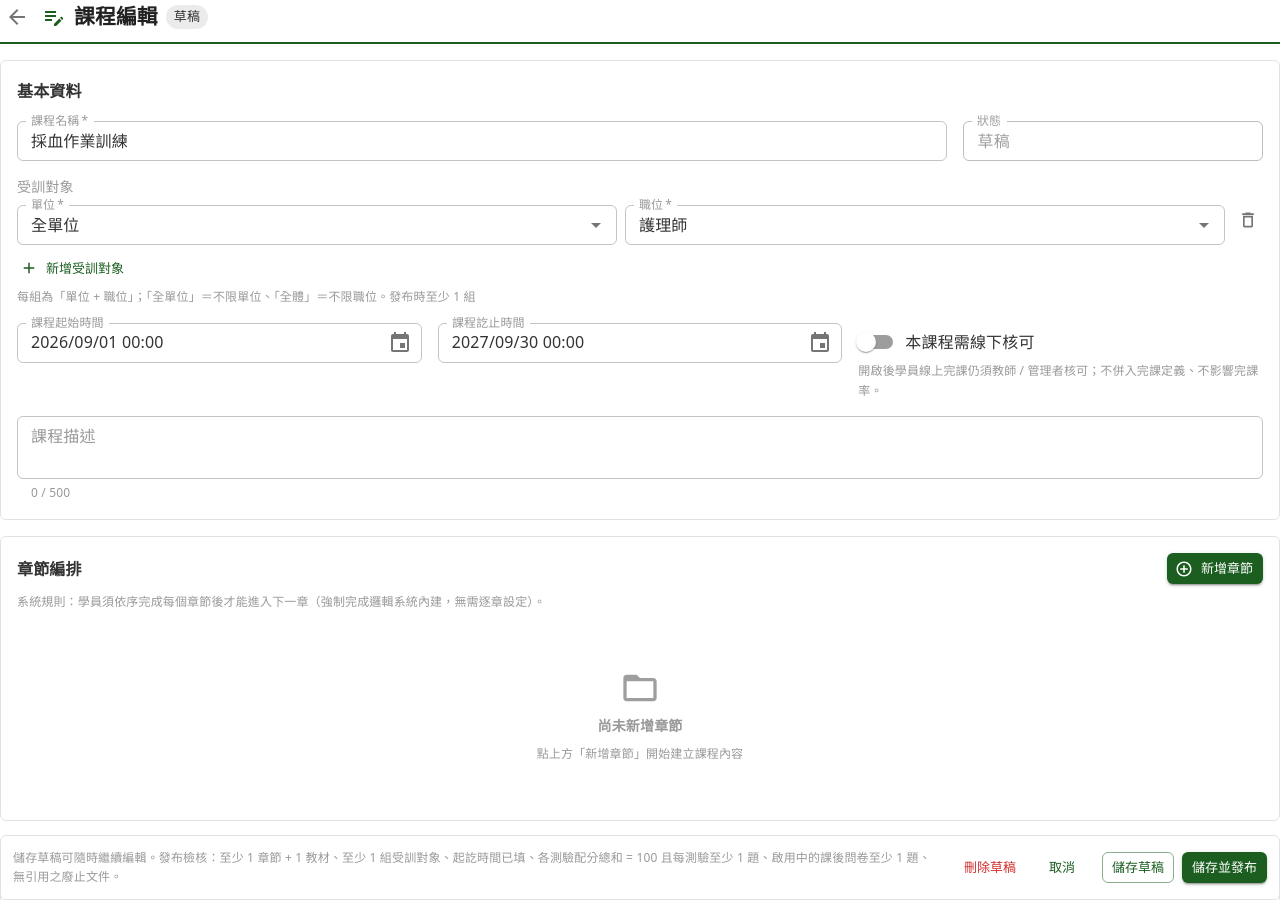
Test: ET05 刪除草稿 › 確認後送出 DELETE、提示成功並導回列表（#457）
Click the button "刪除草稿" at (990, 867), box [958, 852, 1022, 882]
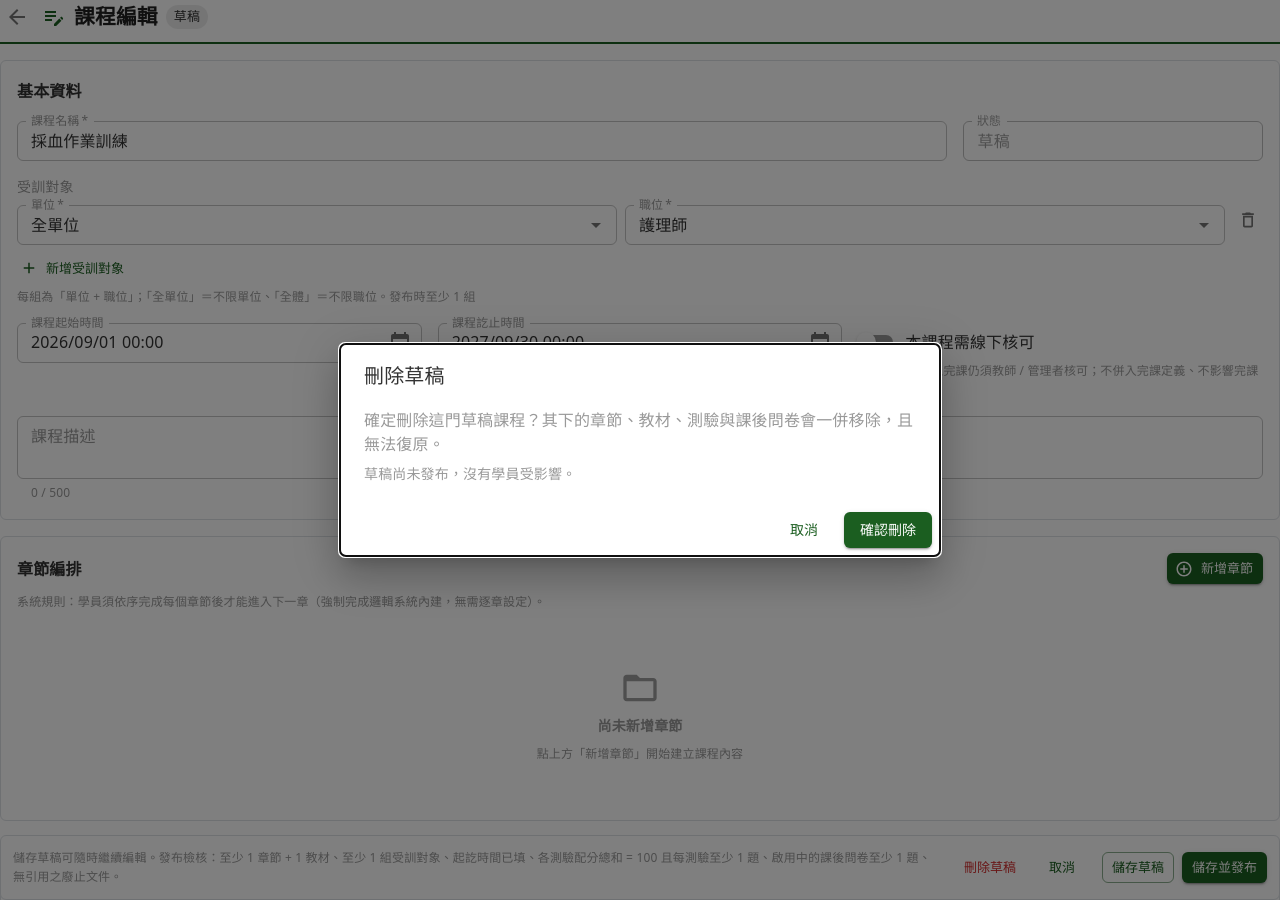
expect the text "確定刪除這門草稿課程？其下的章節、教材、測驗與課後問卷會一併移除，且無法復原。 草稿尚未發布，沒有學員受影響。" is shown: met, box [364, 408, 916, 484]
Click the button "確認刪除" at (888, 530), box [844, 512, 932, 548]
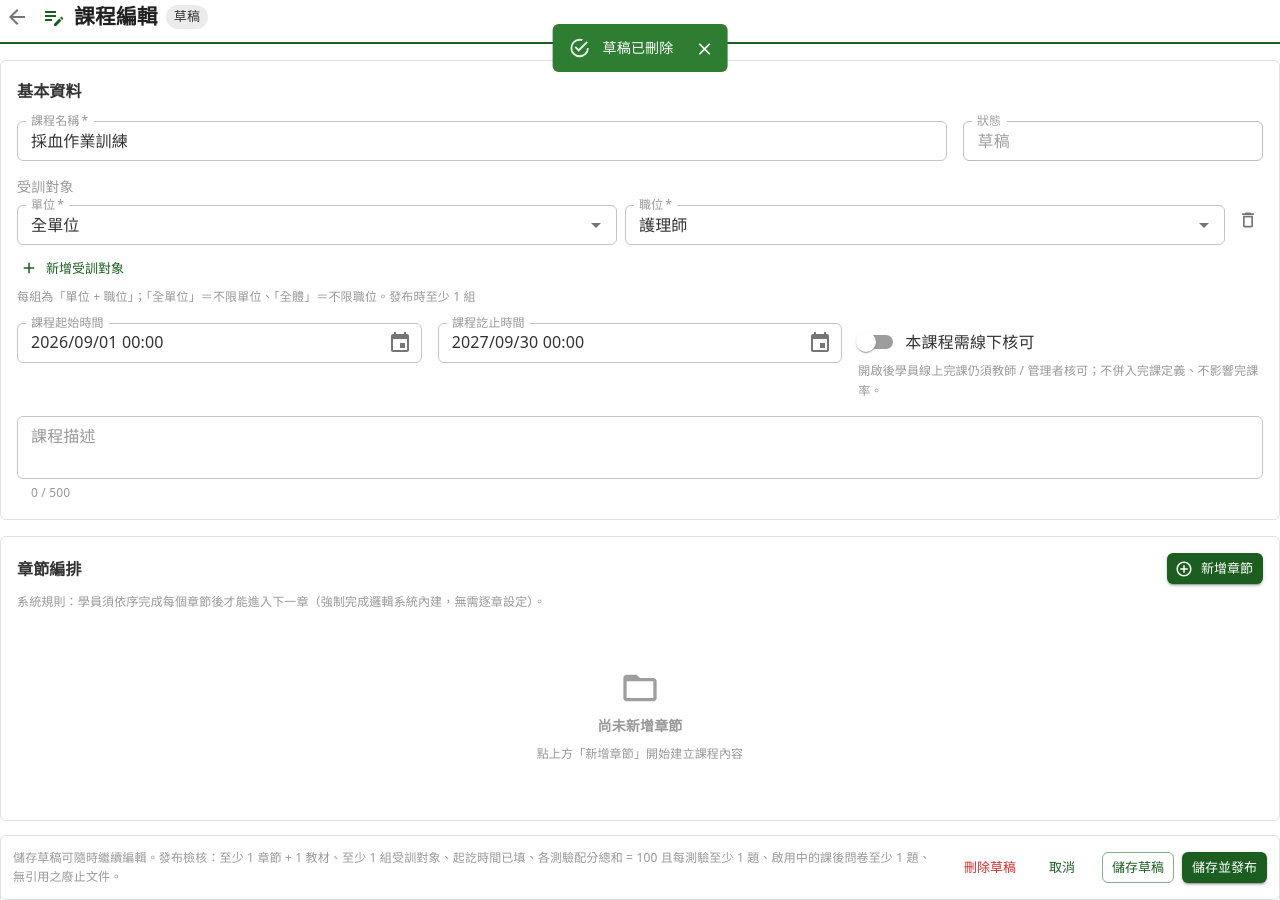
expect the text "草稿已刪除" is shown: met, box [603, 38, 673, 57]
